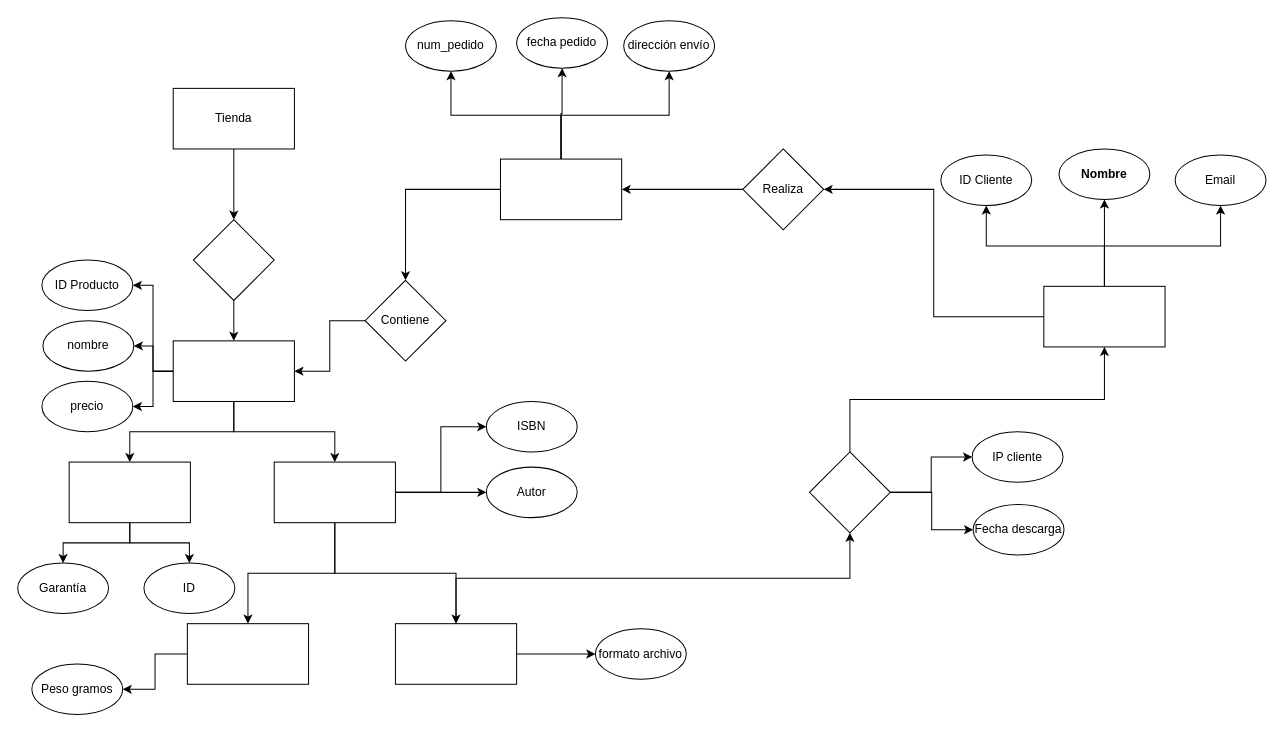
This 1284x732 diagram has some shape labels left out. Here are the shapes that lost their labels. From the top down, the centre of each, then its label:
the point at 560,189: Pedidos
the point at 233,259: Vende
the point at 1104,316: Cliente
the point at 233,370: Productos
the point at 129,492: Electrónica
the point at 334,492: Libros
the point at 849,492: Descargas
the point at 247,653: Fisico
the point at 455,653: Digital
